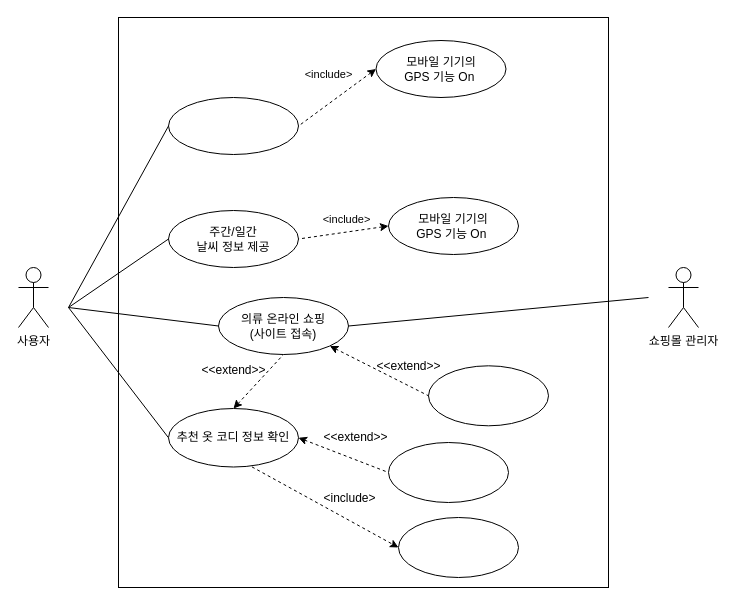
Image size: 736x605. Some labels were removed from this diagram. The centre of each missing label's shape, as x and y in pixels:
"개인 정보 설정 (성별/나이/선호 스타일)" goes at (x=458, y=547).
"쇼핑몰 사이트 즐겨찾기" goes at (x=488, y=395).
"추천 코디스타일 즐겨찾기" goes at (x=448, y=472).
"카카오톡 푸시 알림 수신" goes at (x=233, y=125).
